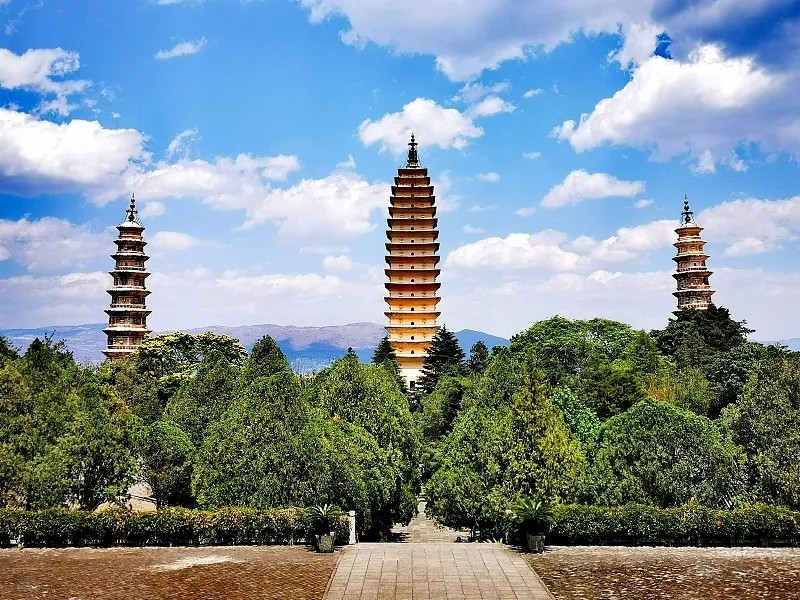ThreePagoda: (384, 133, 442, 393)
